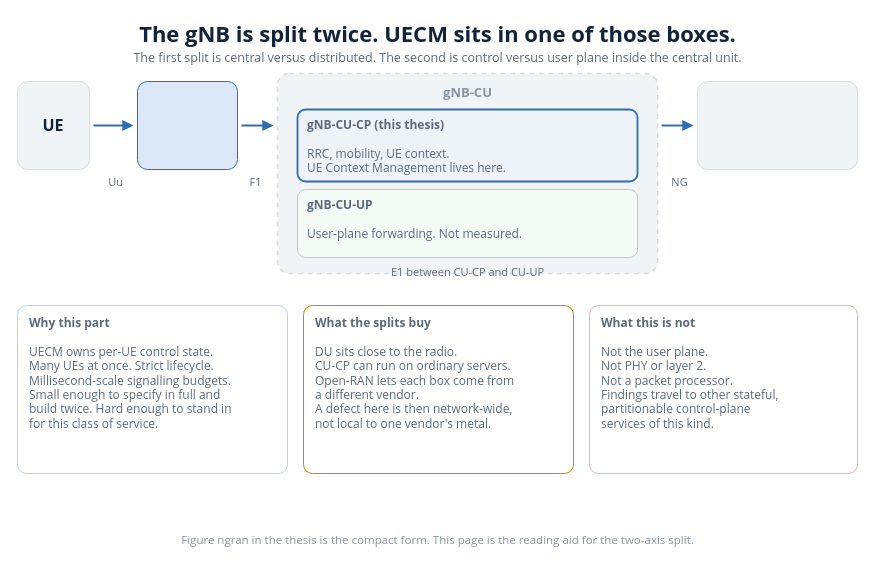
The diagram is 875 pixels wide and 566 high, and some of its shapes have lost their labels. The shapes that lost their labels are listed below. From the top down, each one's centre as x and y in pixels, then its label:
point (187, 125): gNB-DU
point (777, 125): 5G Core
